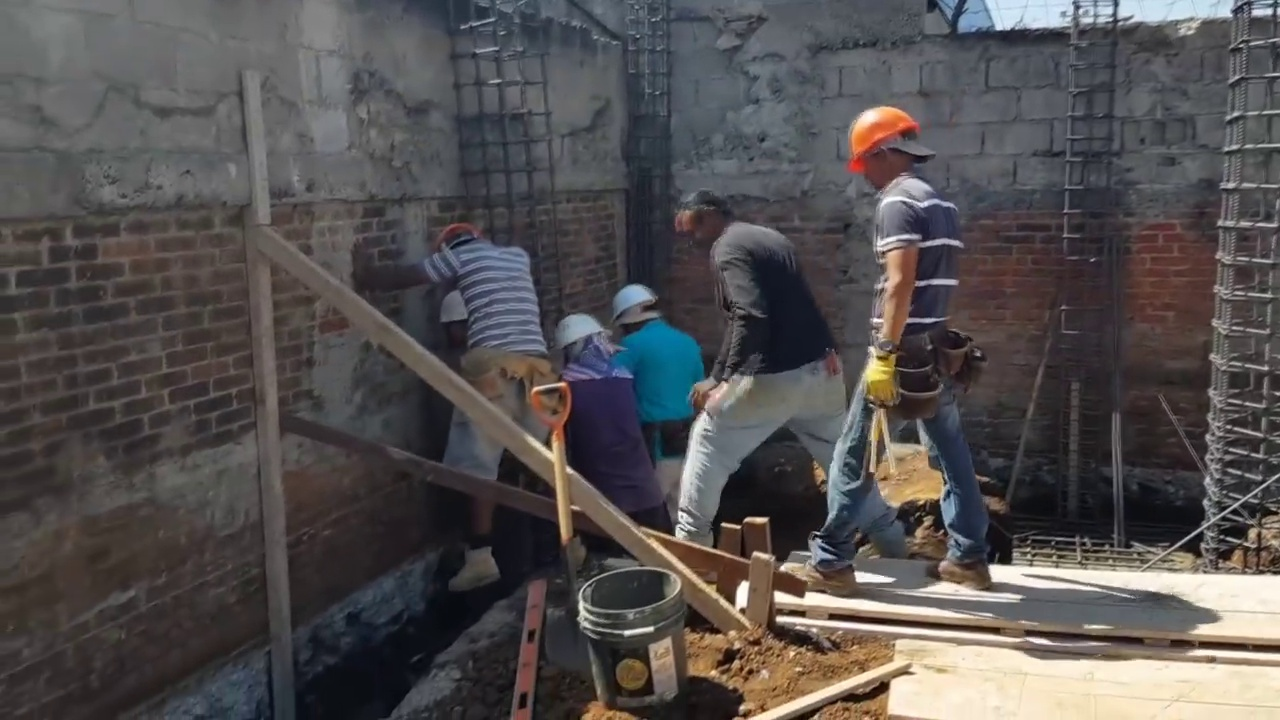helmet: (846, 102, 926, 172), (551, 314, 599, 361), (609, 285, 656, 324)
helmet-off: (678, 194, 736, 248)
helmet-on: (845, 100, 938, 193), (551, 305, 621, 372), (610, 282, 661, 337), (433, 216, 476, 252)
person: (814, 98, 963, 578), (661, 191, 845, 541), (413, 203, 563, 592), (616, 280, 712, 503), (546, 304, 642, 522)
